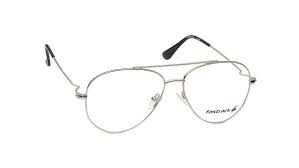g.y: (173, 63, 255, 121)
